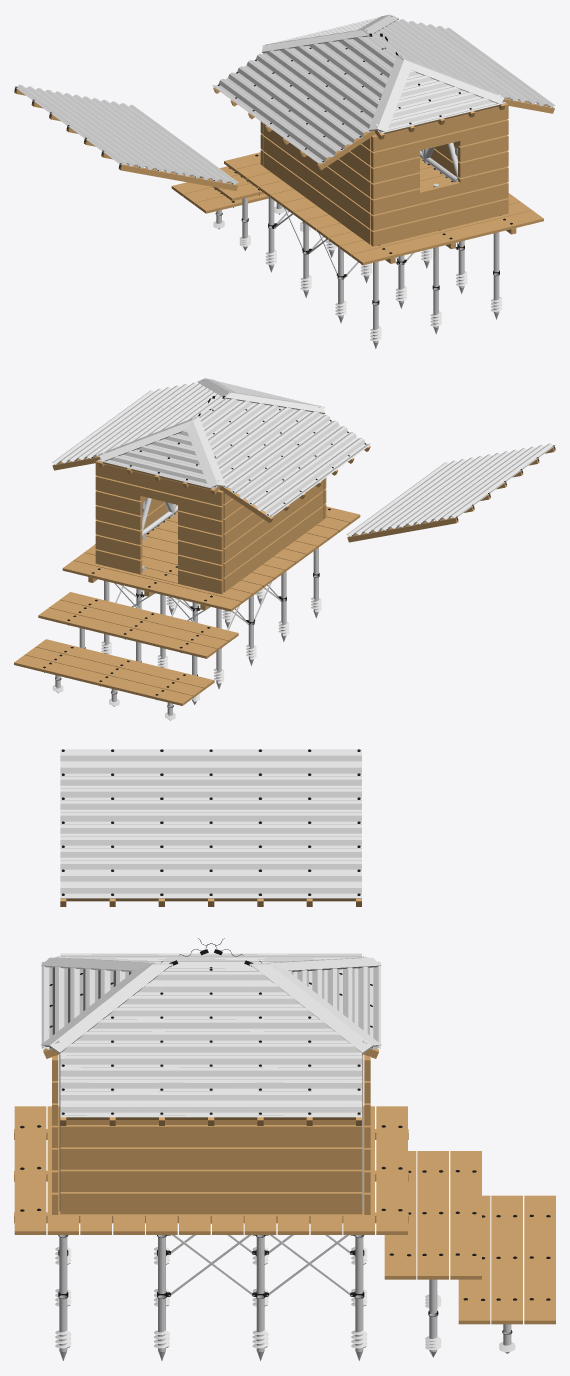
Rendered from lamatwofinalfinal.fbx.
The picture shows the model from 3 angles, top to bottom: view 1: azimuth 30°, elevation 25°; view 2: azimuth 150°, elevation 25°; view 3: azimuth 270°, elevation 25°; orthographic projection. The views are drawn at different scales.
Parts seen in each view (by area): view 1: screws.004, sideplanks.001, screws.005, floorboards, sideplanks, screw pile, screws, Plane, floorboards.002, floorboards.001, Circle.001, crossbar (+1 smaller); view 2: screws.004, sideplanks.001, floorboards, screws.005, floorboards.001, floorboards.002, sideplanks, screws, Plane, screw pile, crossbar, Circle.001; view 3: screws.005, screws.004, sideplanks, floorboards, floorboards.002, floorboards.001, screws, Plane, screw pile, sideplanks.001, crossbar, screw pile.001.
Boxes of the visible parts, x1,y1,x2,y2 form: screws.004: [212, 19, 555, 170]; sideplanks.001: [260, 103, 508, 246]; screws.005: [14, 84, 238, 190]; floorboards: [224, 152, 543, 265]; sideplanks: [263, 123, 458, 244]; screw pile: [265, 197, 502, 348]; screws: [262, 15, 505, 139]; Plane: [261, 14, 505, 132]; floorboards.002: [171, 182, 268, 213]; floorboards.001: [199, 166, 264, 201]; Circle.001: [419, 142, 458, 182]; crossbar: [272, 208, 459, 277]; screws.004: [52, 382, 371, 522]; sideplanks.001: [95, 460, 326, 594]; floorboards: [62, 506, 360, 611]; screws.005: [346, 443, 555, 542]; floorboards.001: [38, 592, 238, 658]; floorboards.002: [14, 639, 214, 705]; sideplanks: [141, 480, 323, 592]; screws: [98, 379, 324, 494]; Plane: [98, 378, 325, 488]; screw pile: [101, 547, 321, 689]; crossbar: [114, 582, 283, 630]; Circle.001: [142, 489, 219, 534]; screws.005: [60, 749, 361, 906]; screws.004: [60, 953, 361, 1125]; sideplanks: [60, 1057, 362, 1214]; floorboards: [14, 1106, 407, 1234]; floorboards.002: [458, 1195, 555, 1324]; floorboards.001: [384, 1151, 481, 1279]; screws: [41, 938, 380, 1058]; Plane: [41, 957, 381, 1053]; screw pile: [55, 1235, 367, 1360]; sideplanks.001: [52, 1055, 370, 1214]; crossbar: [160, 1223, 358, 1296]; screw pile.001: [425, 1279, 441, 1357].
Size of the model in its own units: 8670 by 5120 by 6593.
